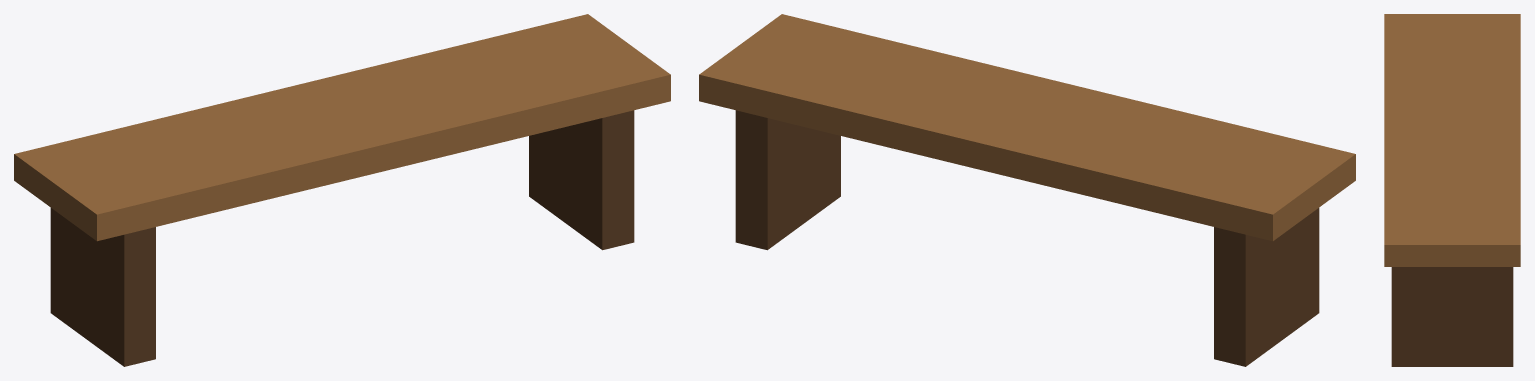
Rendered from bench_1.glb.
The picture shows the model from 3 angles, left to right: view 1: azimuth 30°, elevation 25°; view 2: azimuth 150°, elevation 25°; view 3: azimuth 270°, elevation 25°; orthographic projection. The views are drawn at different scales.
Parts seen in each view (by area): view 1: bench_1; view 2: bench_1; view 3: bench_1.
Part boxes in pixels (<box>): bench_1: <box>14,14,670,366</box>; bench_1: <box>699,14,1355,366</box>; bench_1: <box>1384,14,1520,366</box>.
Size of what is drawn, in the model's own units: 1.8 by 0.49 by 0.45.
